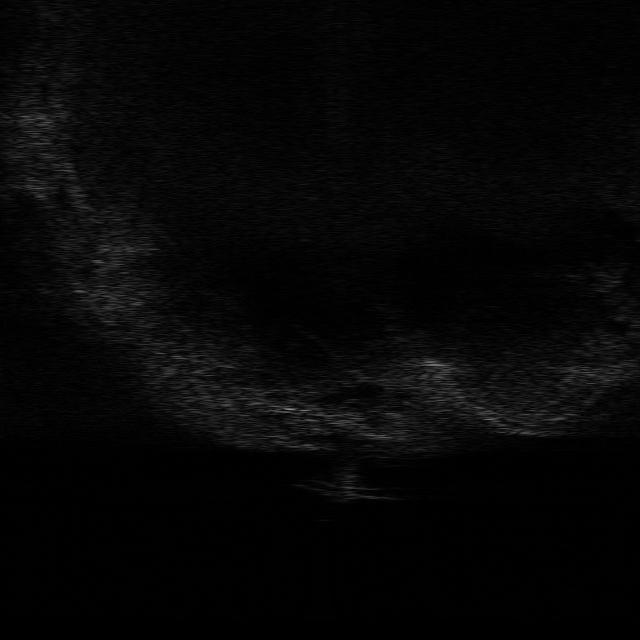plane: (291, 462, 400, 504)
